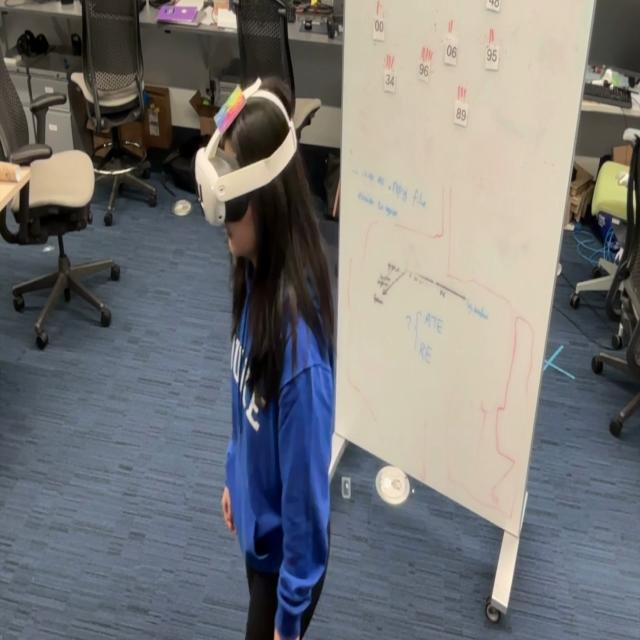Headset: (194, 86, 298, 227)
Marker: (212, 82, 247, 139)
